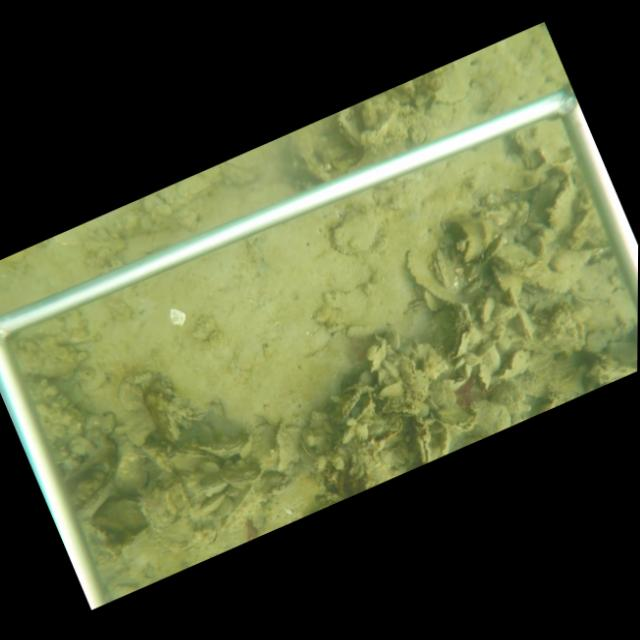Oyster-Closed: (328, 208, 384, 258), (160, 444, 224, 473), (547, 175, 578, 233), (445, 304, 476, 361), (199, 434, 249, 459), (494, 349, 533, 380), (428, 245, 450, 292), (511, 308, 535, 340), (196, 491, 226, 512), (475, 360, 493, 392), (196, 478, 228, 495), (299, 431, 317, 459), (480, 296, 498, 322), (385, 325, 401, 351), (382, 359, 400, 379), (462, 362, 472, 377)
Oyster-Indeterminate: (268, 420, 303, 475), (490, 265, 509, 293)
Oyster-Open: (337, 386, 377, 424), (416, 425, 433, 465)
